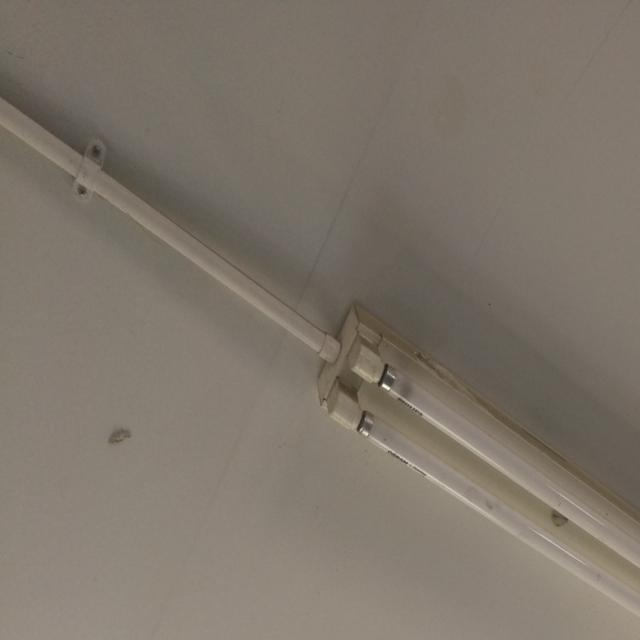fluorescent tube: (279, 279, 640, 640)
